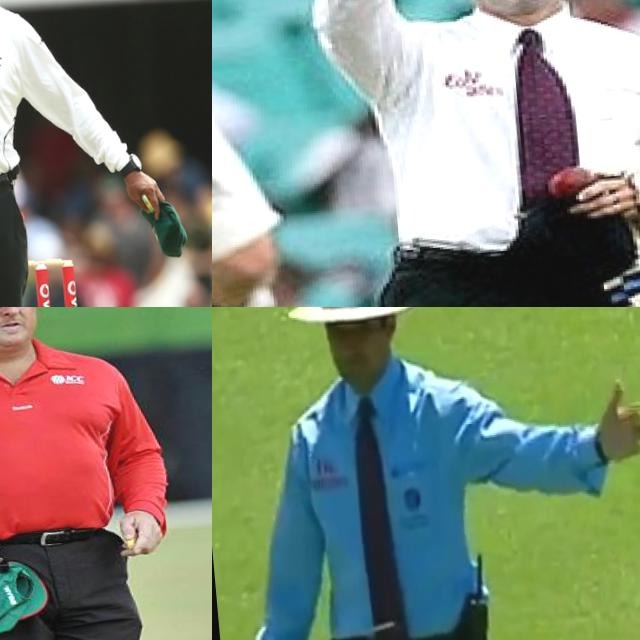No_Ball: (212, 307, 640, 640), (0, 307, 207, 640), (0, 0, 208, 307)
Out: (295, 0, 640, 307)
